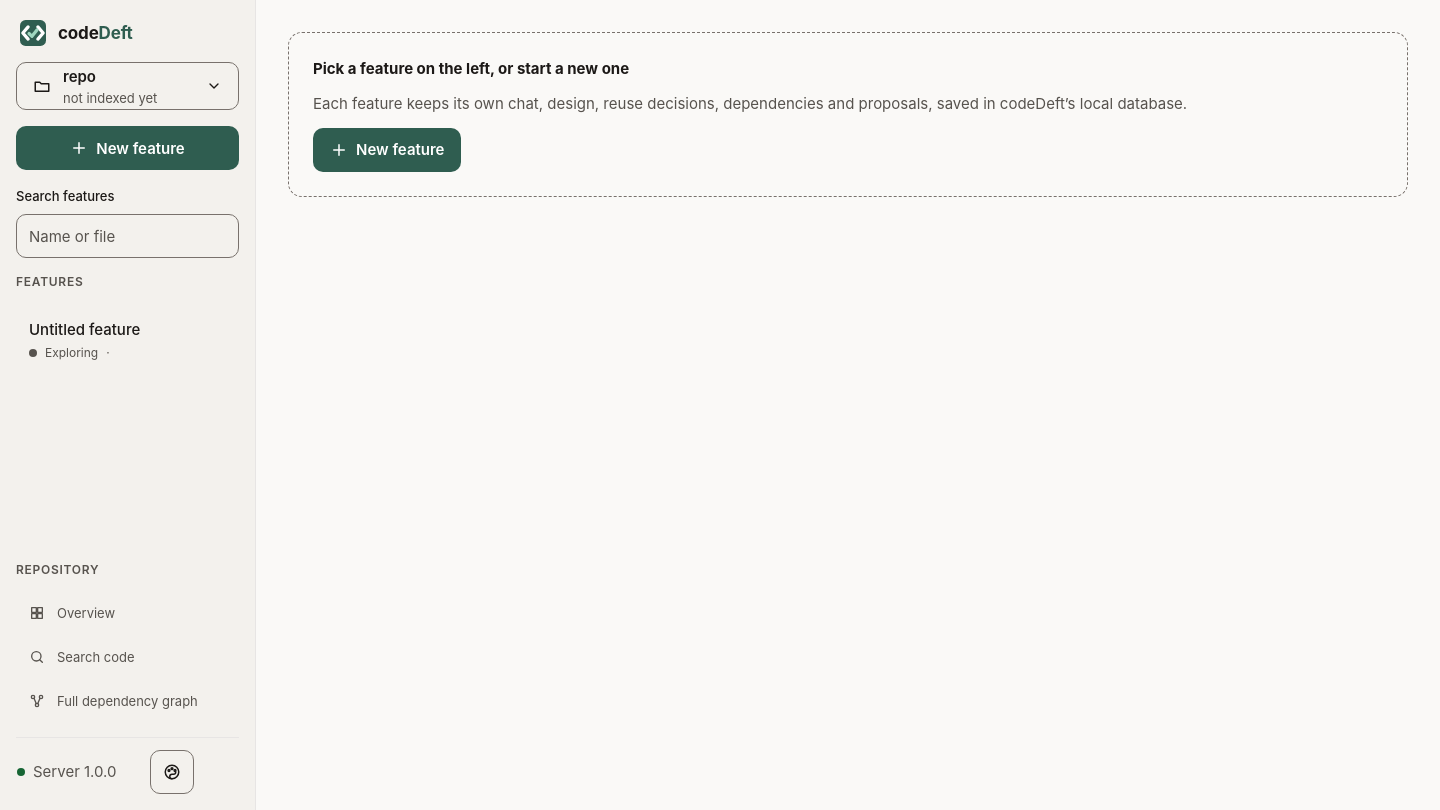
Test: version compatibility (no crashes) › survives malformed feature responses
expect the button "Untitled feature Exploring ·" is shown: met, box [16,306,239,375]
Click the 1st button "New feature". click: [128, 148]
box: [16,126,239,170]
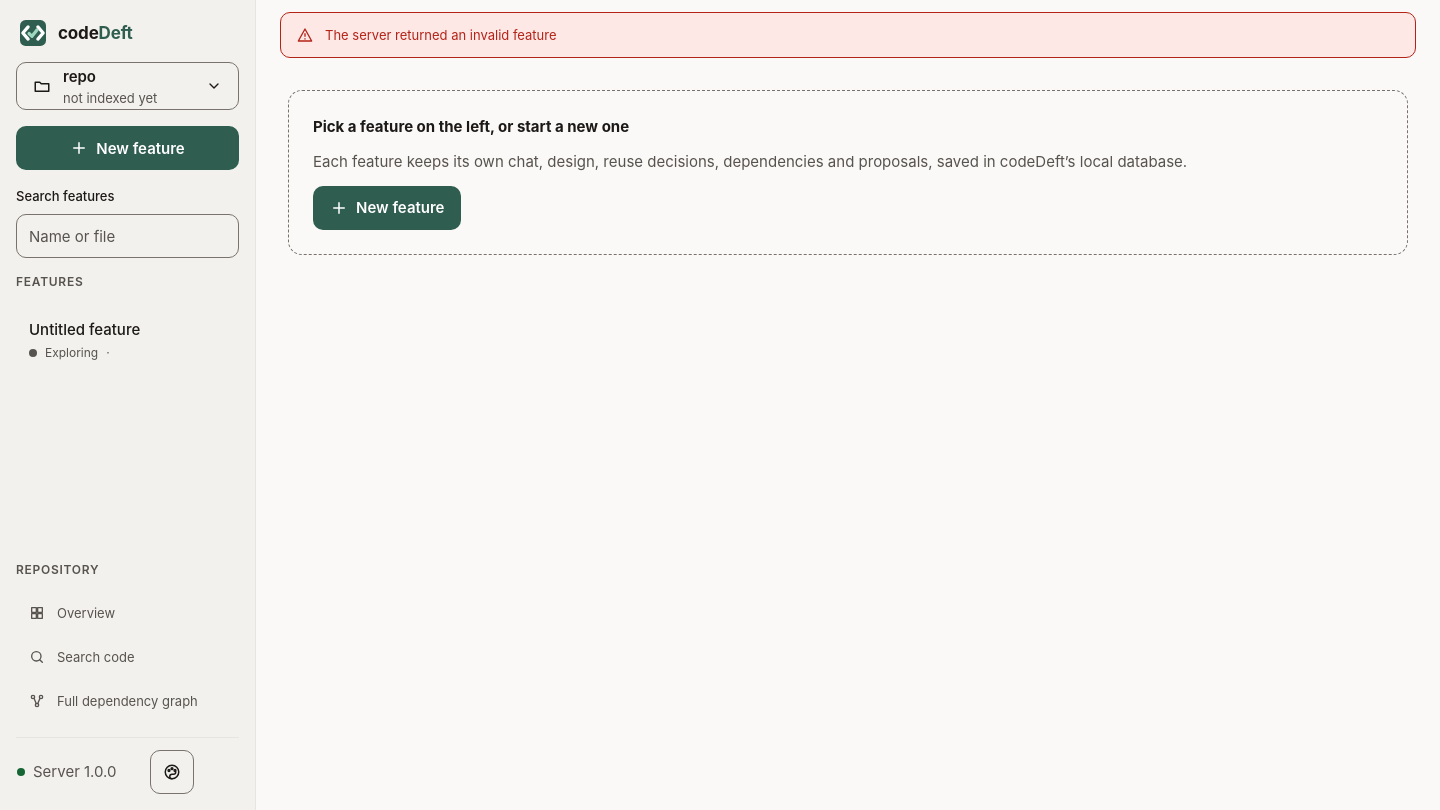
expect the text "The server returned an invalid feature" is shown: met, box [325,27,557,43]
